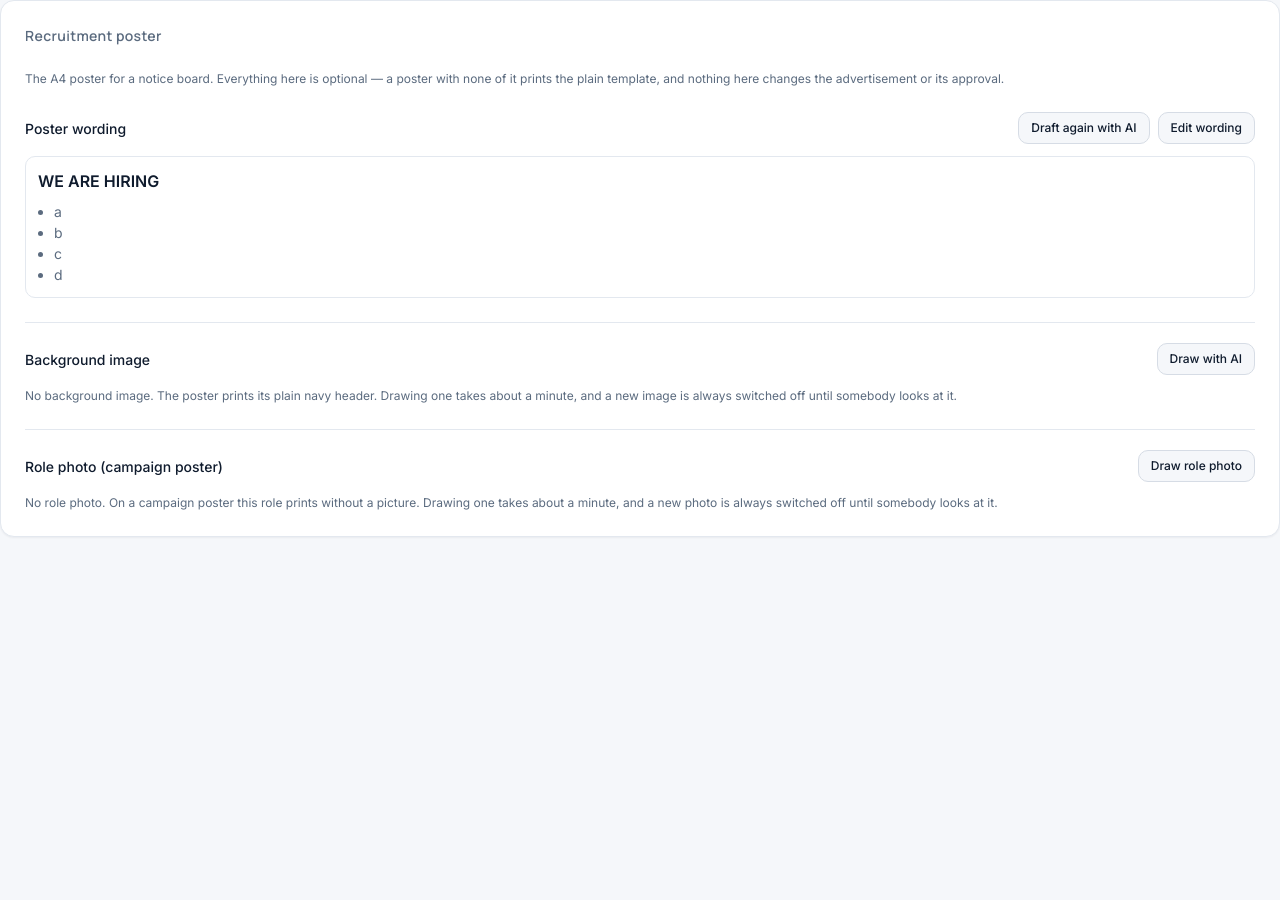
Test: PosterCard › never offers a sixth highlight, because the backend rejects one
Click the button "Edit wording". click: click(1206, 128)
box: [1158,112,1255,144]
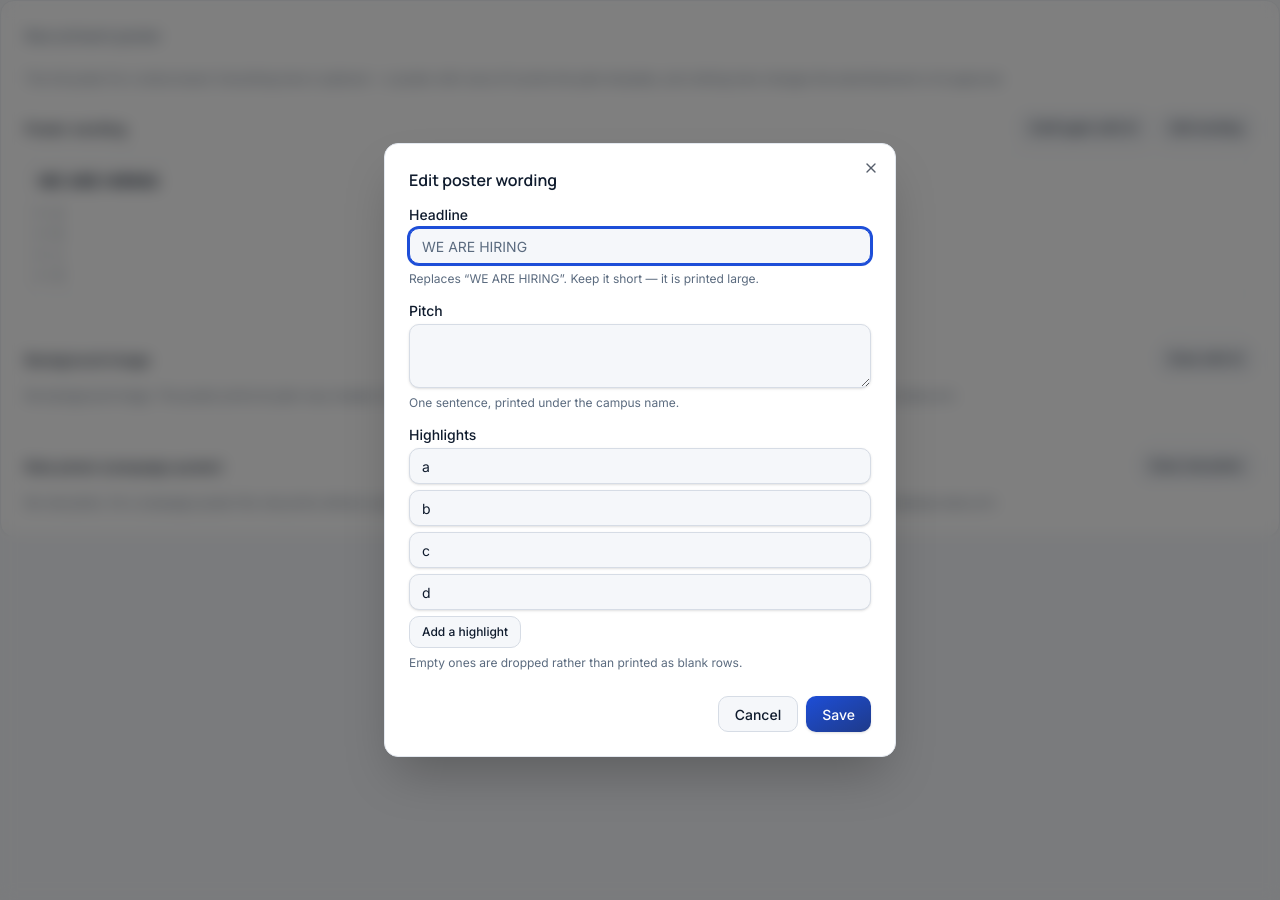
Now the field named "Highlight 4" is shown, box [409,574,871,610]
Click the button "Add a highlight". click: click(465, 632)
box: [409,616,521,648]
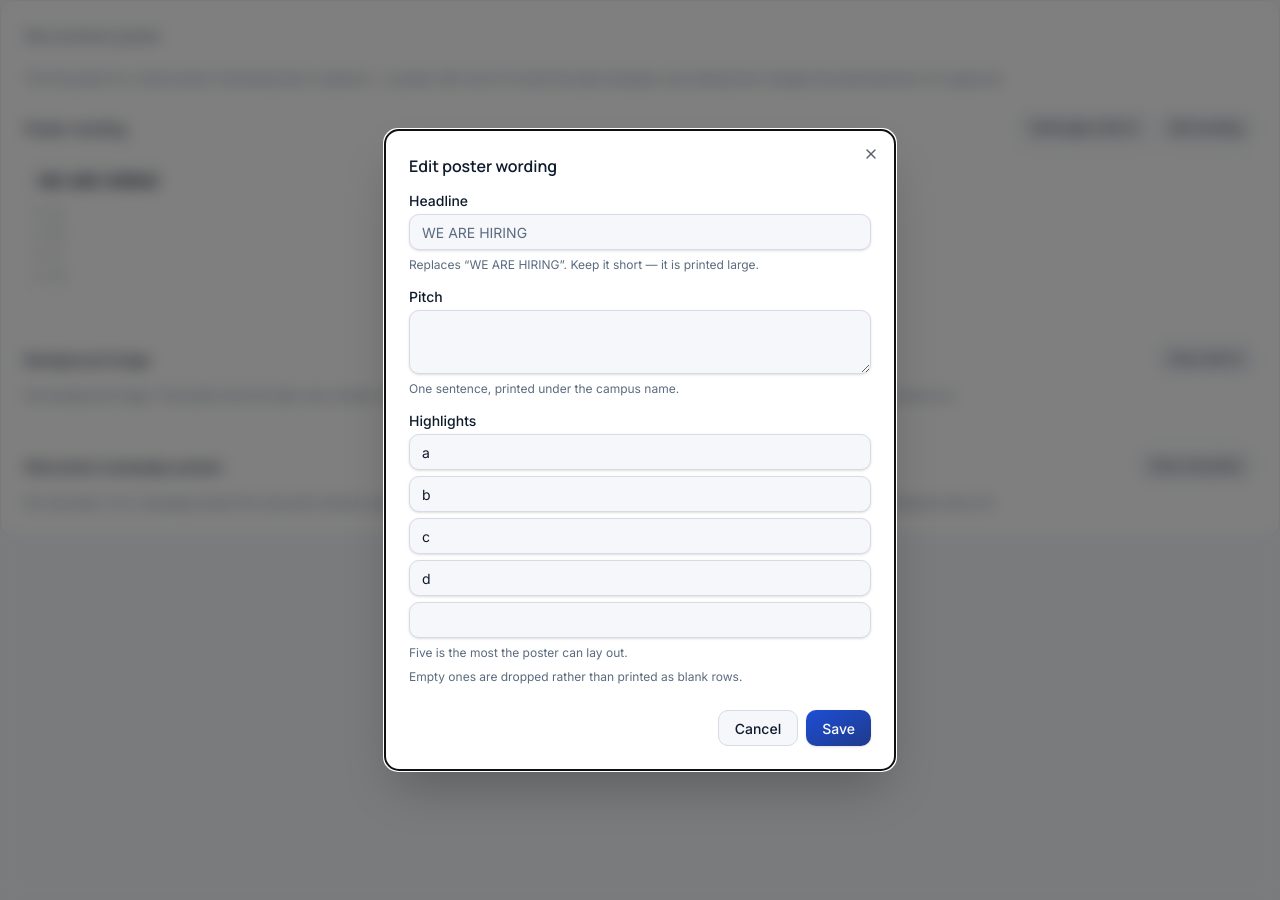
Now the field named "Highlight 5" is shown, box [409,602,871,638]
Now the button "Add a highlight" is gone
Now the text "Five is the most the poster can lay out." is shown, box [409,645,628,660]
